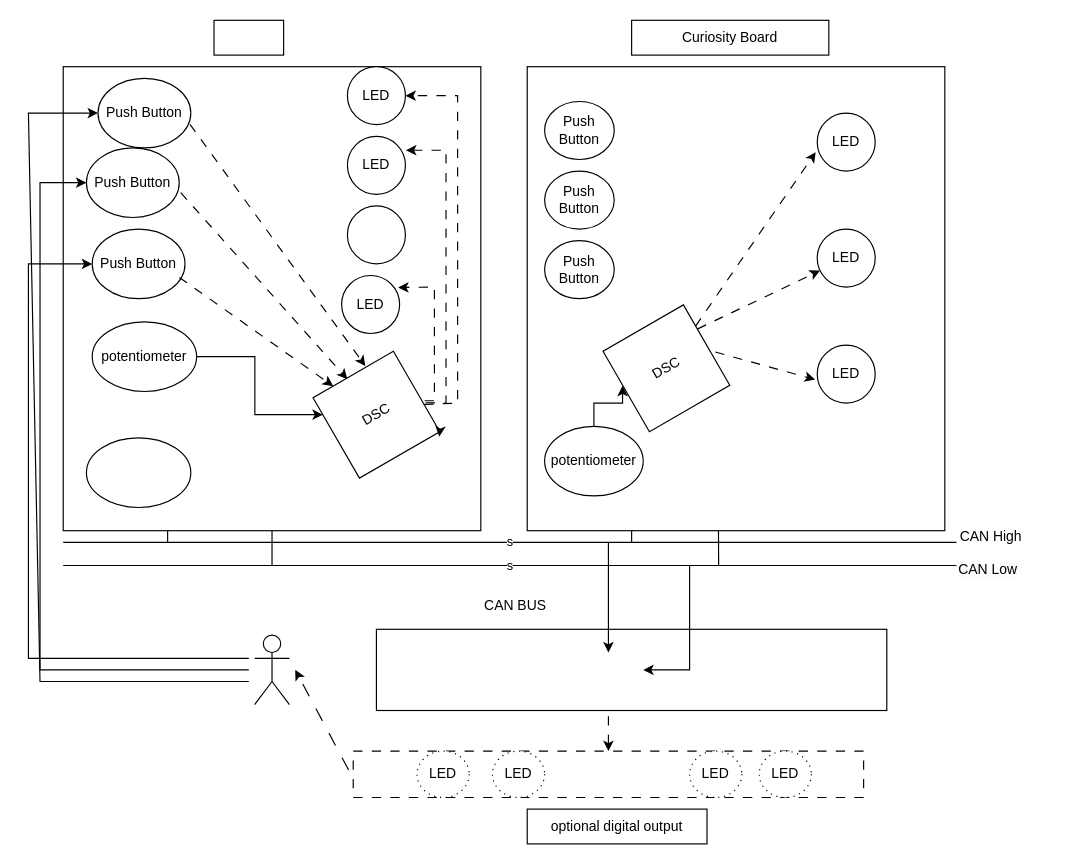
This 1081x864 diagram has some shape labels left out. The shapes that lost their labels are listed below. From the top down, each one's centre as x and y in pixels, then its label:
point (248, 37): Starter Kit
point (375, 234): Green LED
point (138, 472): temperature sensor
point (271, 669): User
point (631, 669): CAN Sniffer
